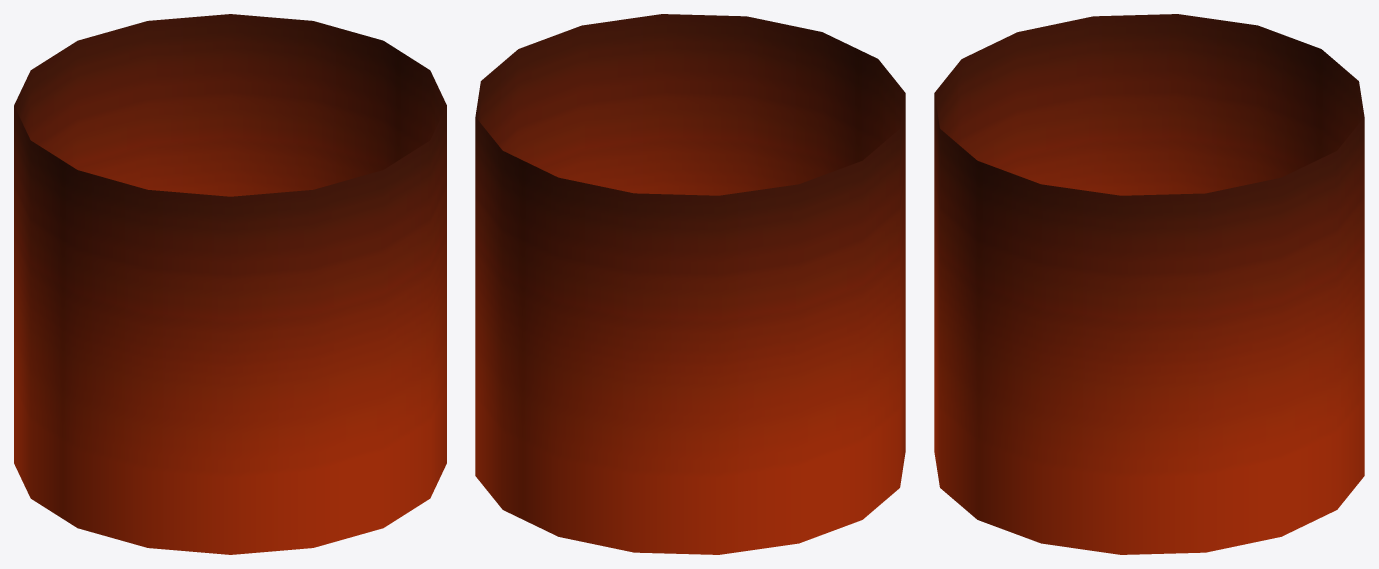
3 views of the same model, side by side, from view 1: azimuth 30°, elevation 25°; view 2: azimuth 150°, elevation 25°; view 3: azimuth 270°, elevation 25° (orthographic).
Visible parts, largest first — view 1: Joint_0_Object_0; view 2: Joint_0_Object_0; view 3: Joint_0_Object_0.
Boxes of the visible parts, box(x1,y1,x2,y2) form: Joint_0_Object_0: box(14, 14, 446, 554); Joint_0_Object_0: box(475, 14, 905, 554); Joint_0_Object_0: box(934, 14, 1364, 554).
Bounding box in the file's own units: 445 × 410 × 445.
